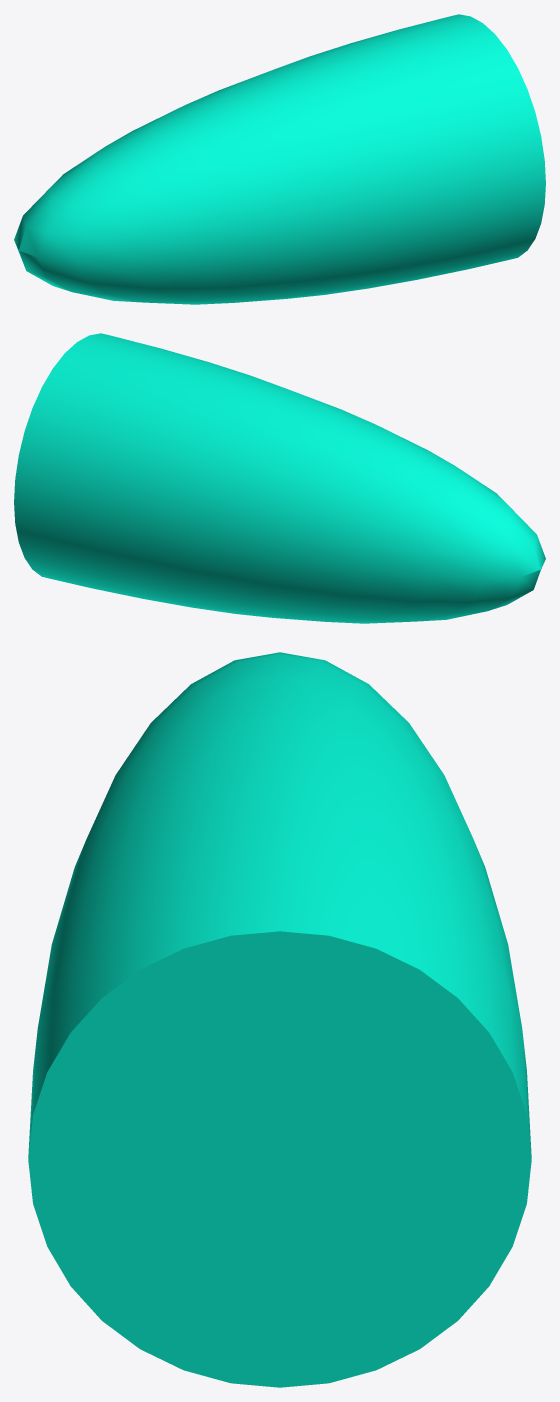
Rendered from tama_ao.fbx.
3 views of the same model, one above another, from view 1: azimuth 30°, elevation 25°; view 2: azimuth 150°, elevation 25°; view 3: azimuth 270°, elevation 25° (orthographic). The views are drawn at different scales.
Parts seen in each view (by area): view 1: 球.001; view 2: 球.001; view 3: 球.001.
Part boxes in pixels (box(x1,y1,x2,y2)): 球.001: box(14, 14, 545, 304); 球.001: box(14, 333, 545, 623); 球.001: box(28, 652, 531, 1387).
Bounding box in the file's own units: 426 × 200 × 200.
